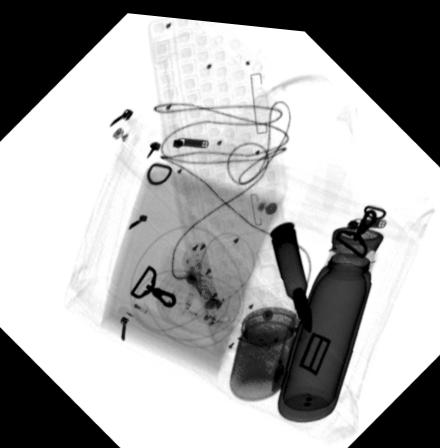Bullet: (267, 214, 313, 327)
